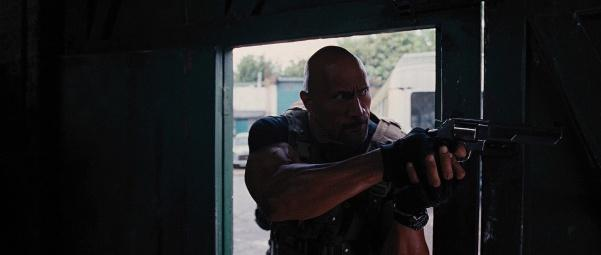Gun: (428, 117, 566, 164)
